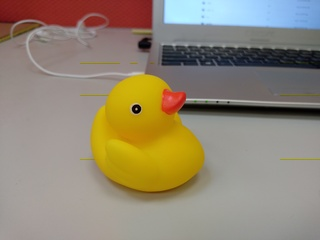duck: (84, 71, 213, 198)
